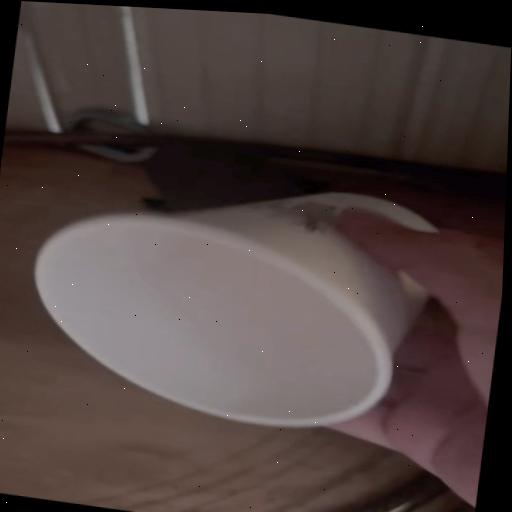Ly_giay: (35, 193, 434, 427)
